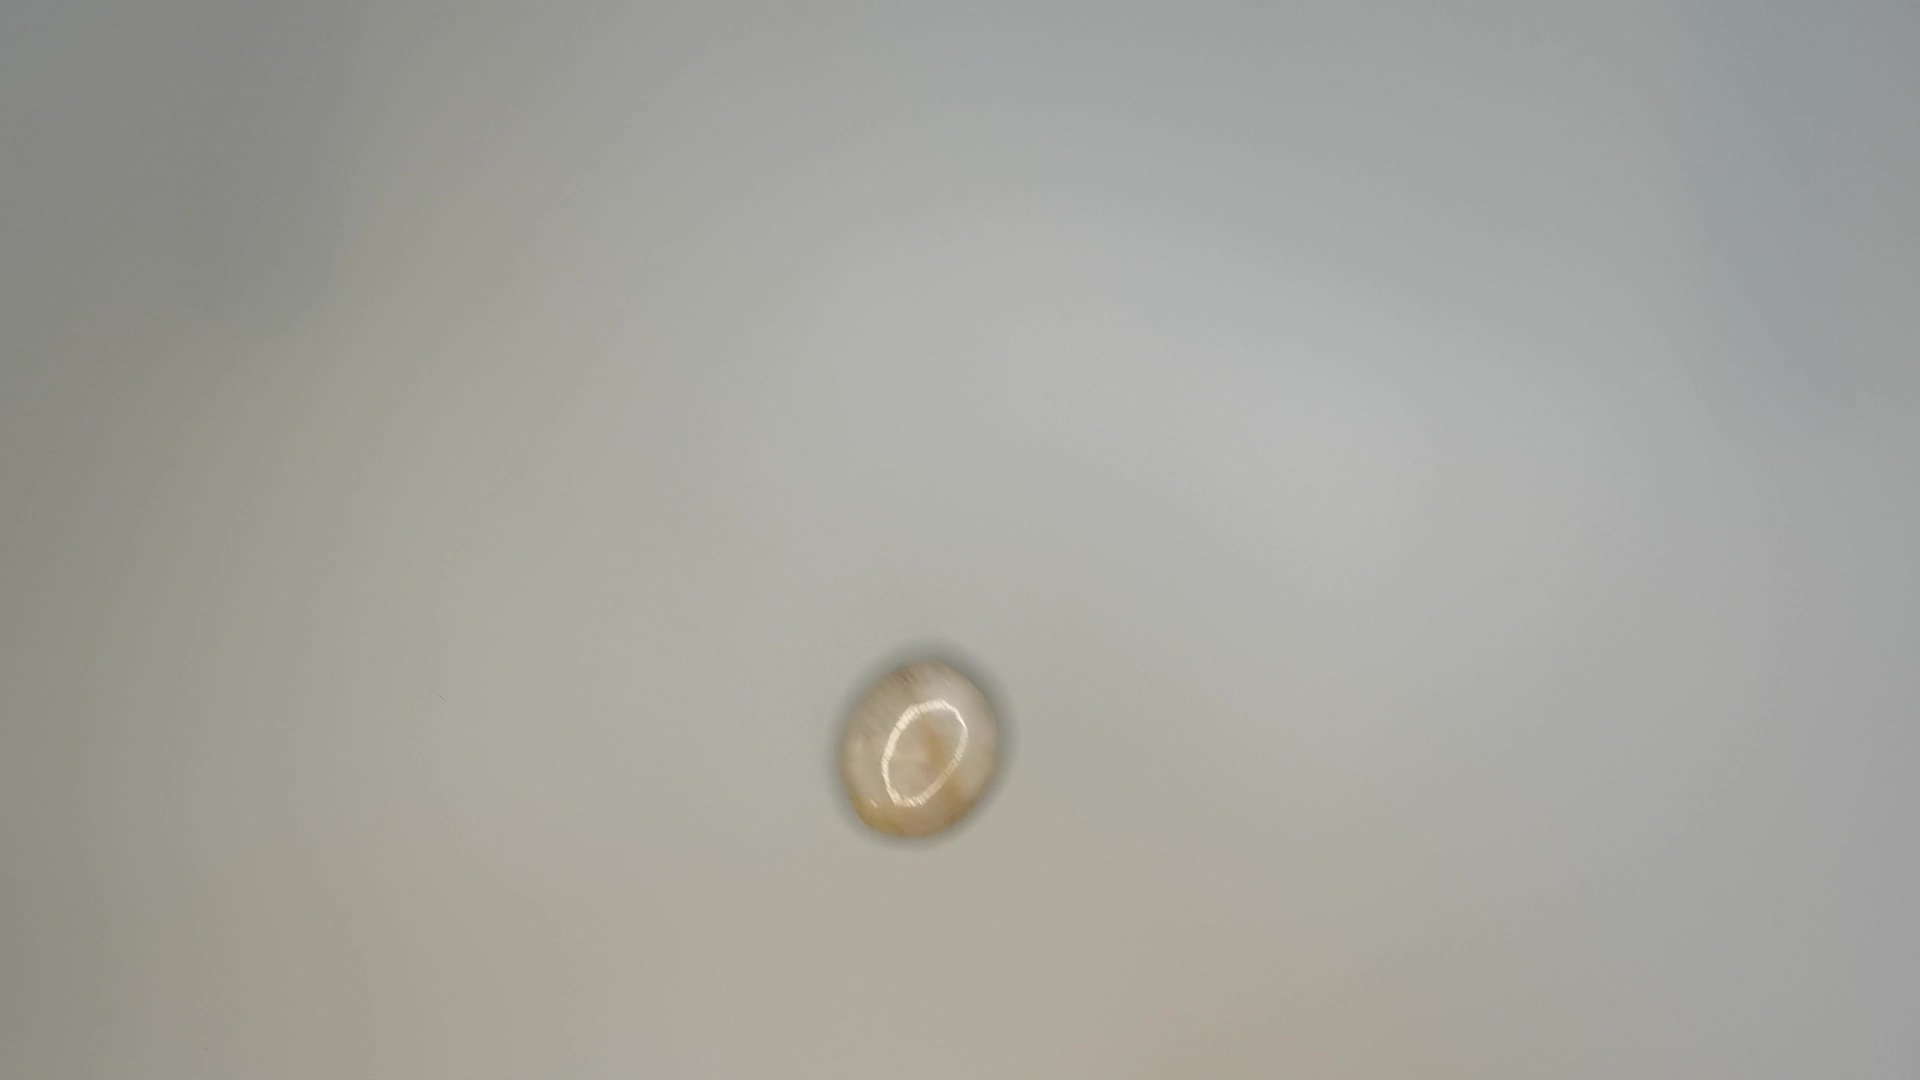ceramic: (829, 650, 1014, 853)
